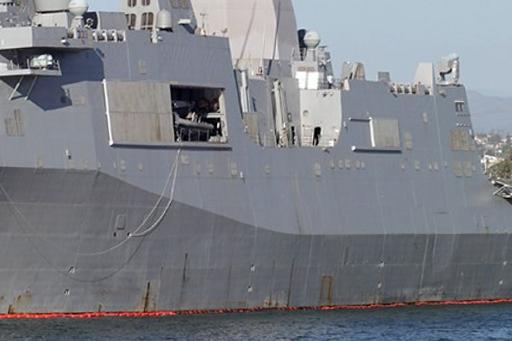rust: (9, 285, 43, 312), (445, 123, 474, 153), (314, 275, 337, 302), (139, 286, 158, 309)
